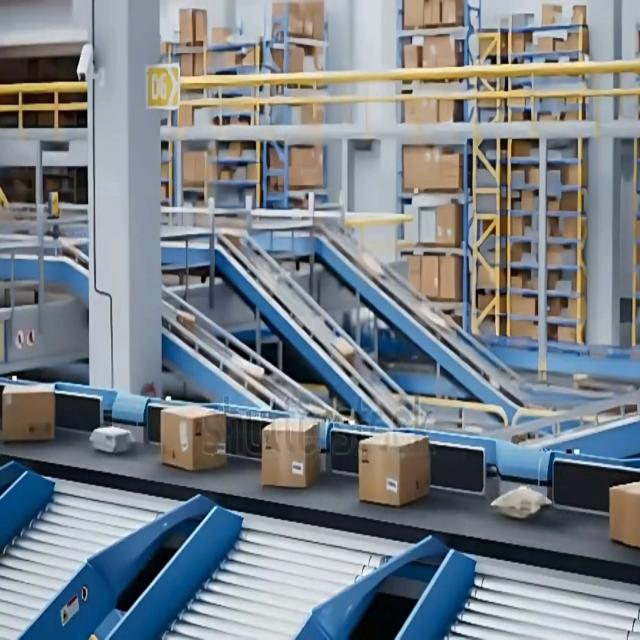product 1: (358, 430, 430, 507), (159, 404, 227, 471), (261, 417, 320, 488)
product 2: (89, 424, 132, 454)
